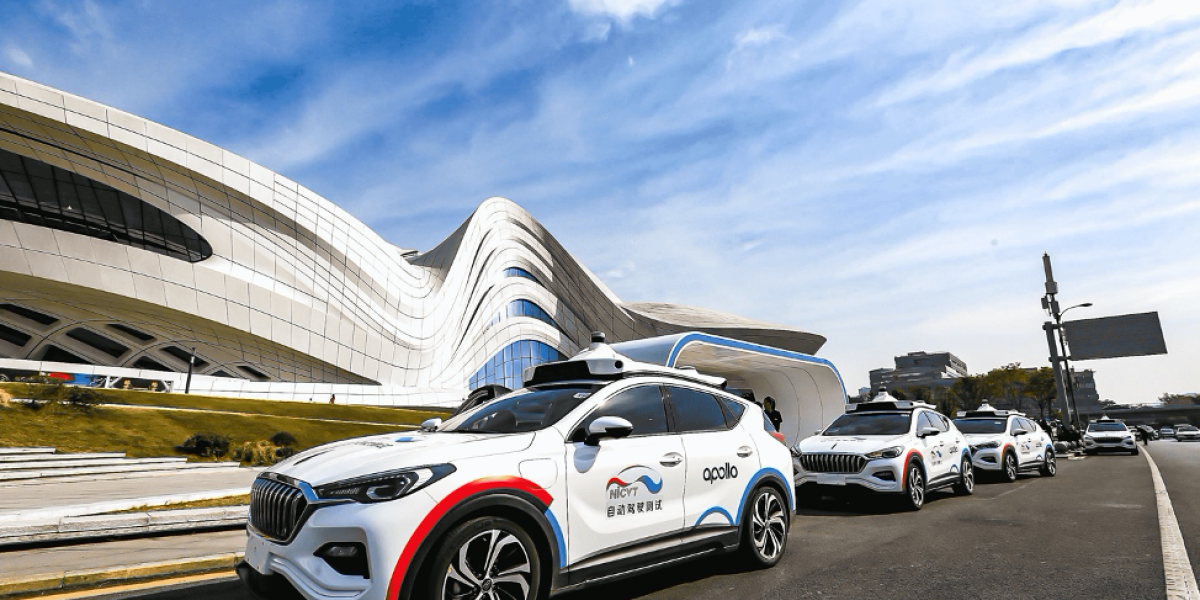car: (234, 378, 797, 600), (795, 396, 976, 505), (959, 410, 1060, 478), (1085, 419, 1137, 457)
pole: (1044, 320, 1078, 426)
